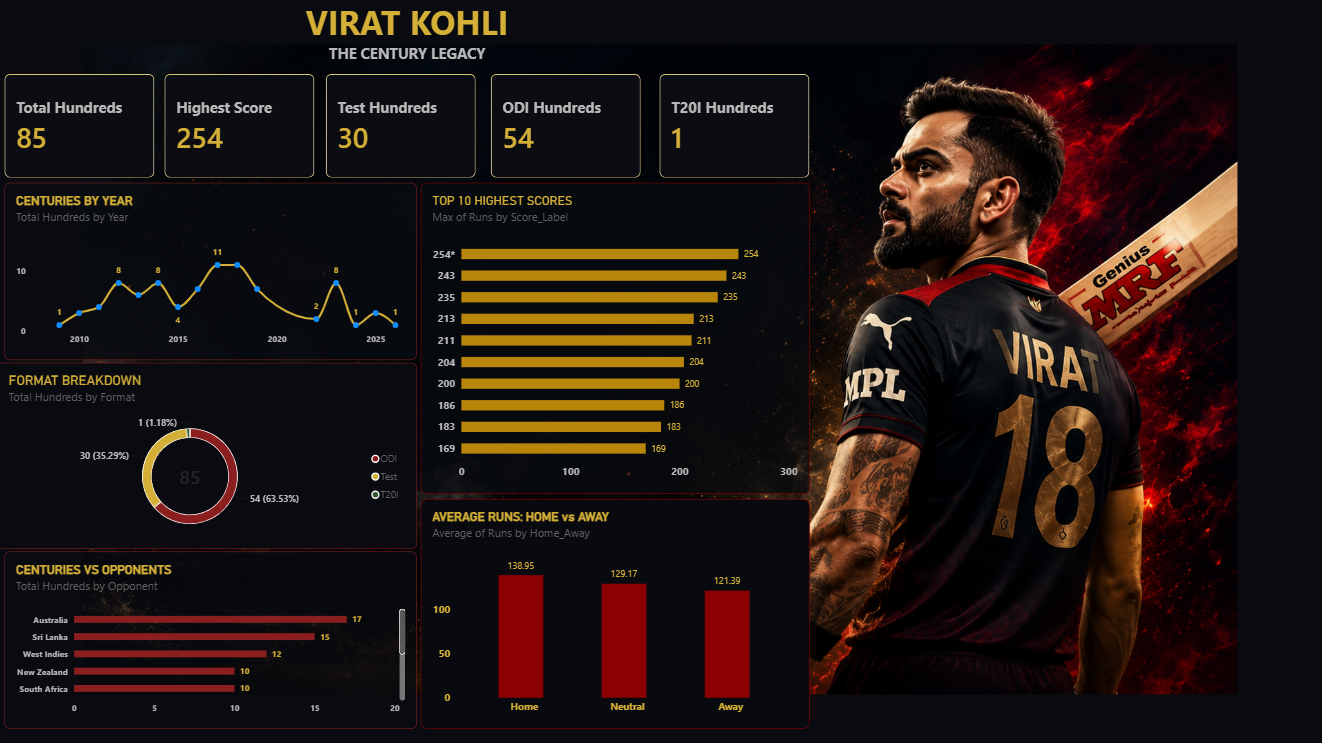

Layout of this report page (visuals, bound fields, positions):
{"tool":"powerbi","page":{"name":"Page 1","canvas":[1920,1080],"ordinal":0},"visuals":[{"type":"textbox","box":[10.9,0,1165.4,108.6],"z":0},{"type":"cardVisual","fields":{"Data":["Raw_Data.Total Hundreds"]},"box":[10.9,108.6,217.2,150.2],"z":1000},{"type":"cardVisual","fields":{"Data":["Raw_Data.Highest Score"]},"box":[242.5,108.6,217.2,150.2],"z":2000},{"type":"cardVisual","fields":{"Data":["Raw_Data.Test Hundreds"]},"box":[475.9,108.6,217.2,150.2],"z":3000},{"type":"cardVisual","fields":{"Data":["Raw_Data.ODI Hundreds"]},"box":[714.8,108.6,217.2,150.2],"z":4000},{"type":"cardVisual","fields":{"Data":["Raw_Data.T20I Hundreds"]},"box":[959.1,108.6,217.2,150.2],"z":5000},{"type":"lineChart","title":"CENTURIES BY YEAR","fields":{"Category":["Raw_Data.Year"],"Y":["Raw_Data.Total Hundreds"]},"box":[10.9,266,597.2,257],"z":6000},{"type":"donutChart","title":"FORMAT BREAKDOWN","fields":{"Category":["Raw_Data.Format"],"Y":["Raw_Data.Total Hundreds"]},"box":[0,526.6,608,269.6],"z":7000},{"type":"clusteredBarChart","title":"CENTURIES VS OPPONENTS","fields":{"Y":["Raw_Data.Total Hundreds"],"Category":["Raw_Data.Opponent"]},"box":[10.9,799.9,597.2,257],"z":7001},{"type":"clusteredBarChart","title":"TOP 10 HIGHEST SCORES","fields":{"Y":["Max(Raw_Data.Runs)"],"Category":["Raw_Data.Score_Label"]},"box":[613.5,266,562.8,450.6],"z":7002},{"type":"clusteredColumnChart","title":"AVERAGE RUNS: HOME vs AWAY","fields":{"Category":["Raw_Data.Home_Away"],"Y":["Avg(Raw_Data.Runs)"]},"box":[613.5,723.9,562.8,333],"z":7003}]}

Visuals, with their boxes in screenshot pixels (x1, y1, x2, y2), scaled from the page's 1920x1080 canvas onto the 1322x743 screenshot:
textbox: (8,0,810,75)
cardVisual - Raw_Data.Total Hundreds: (8,75,157,178)
cardVisual - Raw_Data.Highest Score: (167,75,317,178)
cardVisual - Raw_Data.Test Hundreds: (328,75,477,178)
cardVisual - Raw_Data.ODI Hundreds: (492,75,642,178)
cardVisual - Raw_Data.T20I Hundreds: (660,75,810,178)
"CENTURIES BY YEAR" lineChart: (8,183,419,360)
"FORMAT BREAKDOWN" donutChart: (0,362,419,548)
"CENTURIES VS OPPONENTS" clusteredBarChart: (8,550,419,727)
"TOP 10 HIGHEST SCORES" clusteredBarChart: (422,183,810,493)
"AVERAGE RUNS: HOME vs AWAY" clusteredColumnChart: (422,498,810,727)
